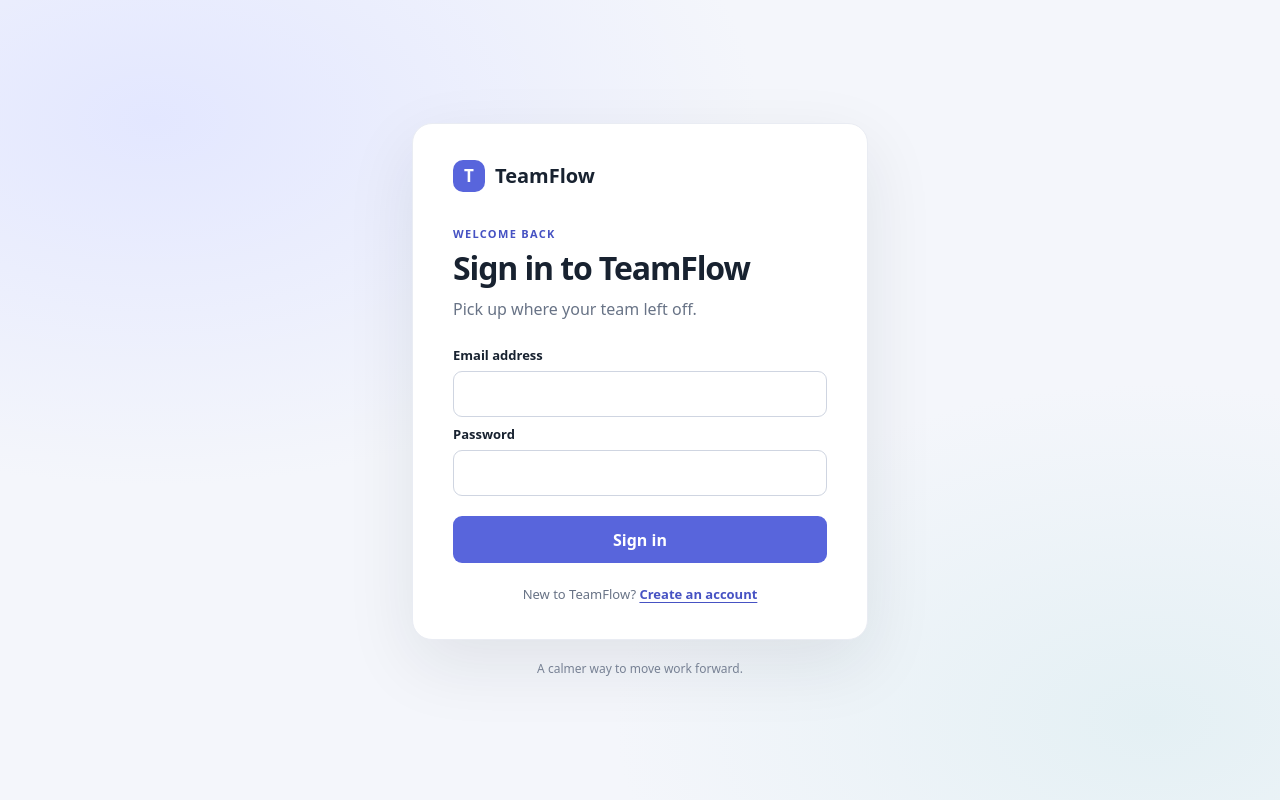
Scenario: authentication flow › shows backend validation messages on the matching field
Click the link "Create an account" at (698, 594), box [639,586,757,604]
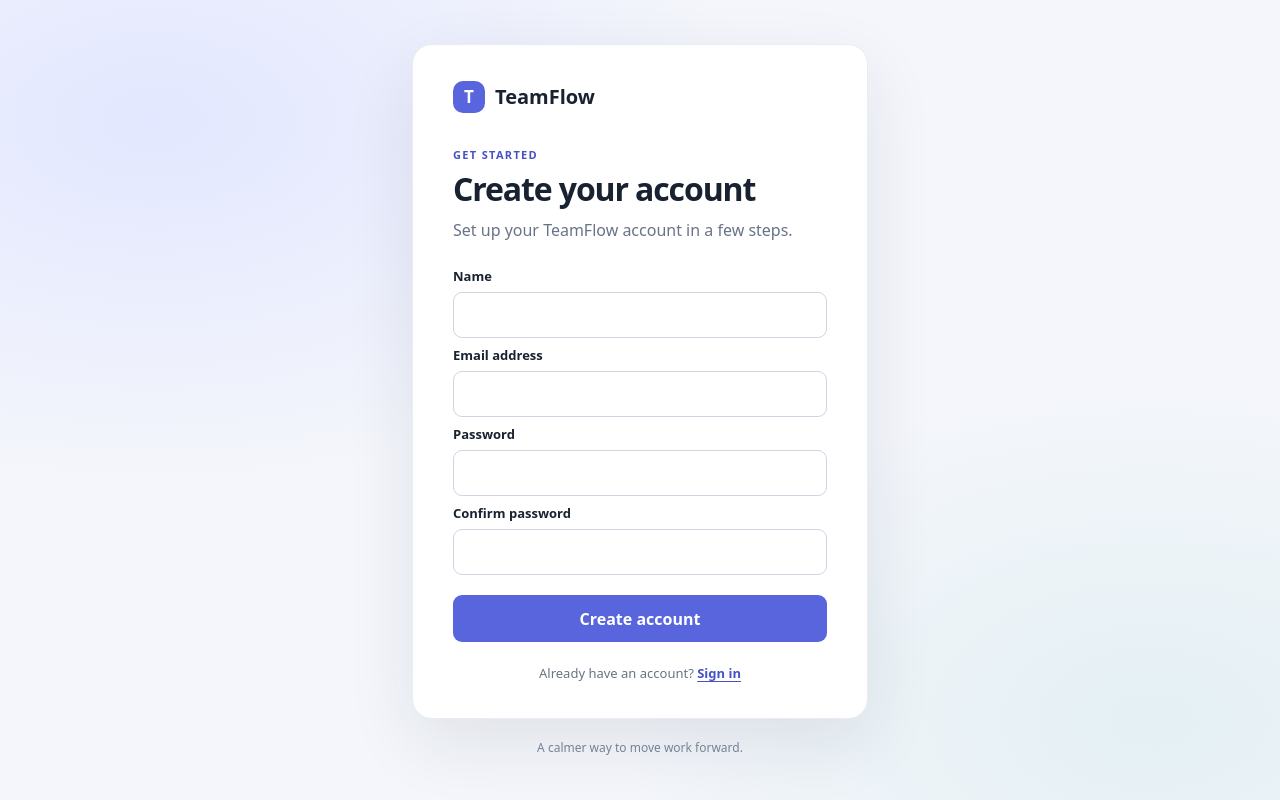
Type "Ada Lovelace" into the field labelled "Name" at (640, 316), box [453,292,827,338]
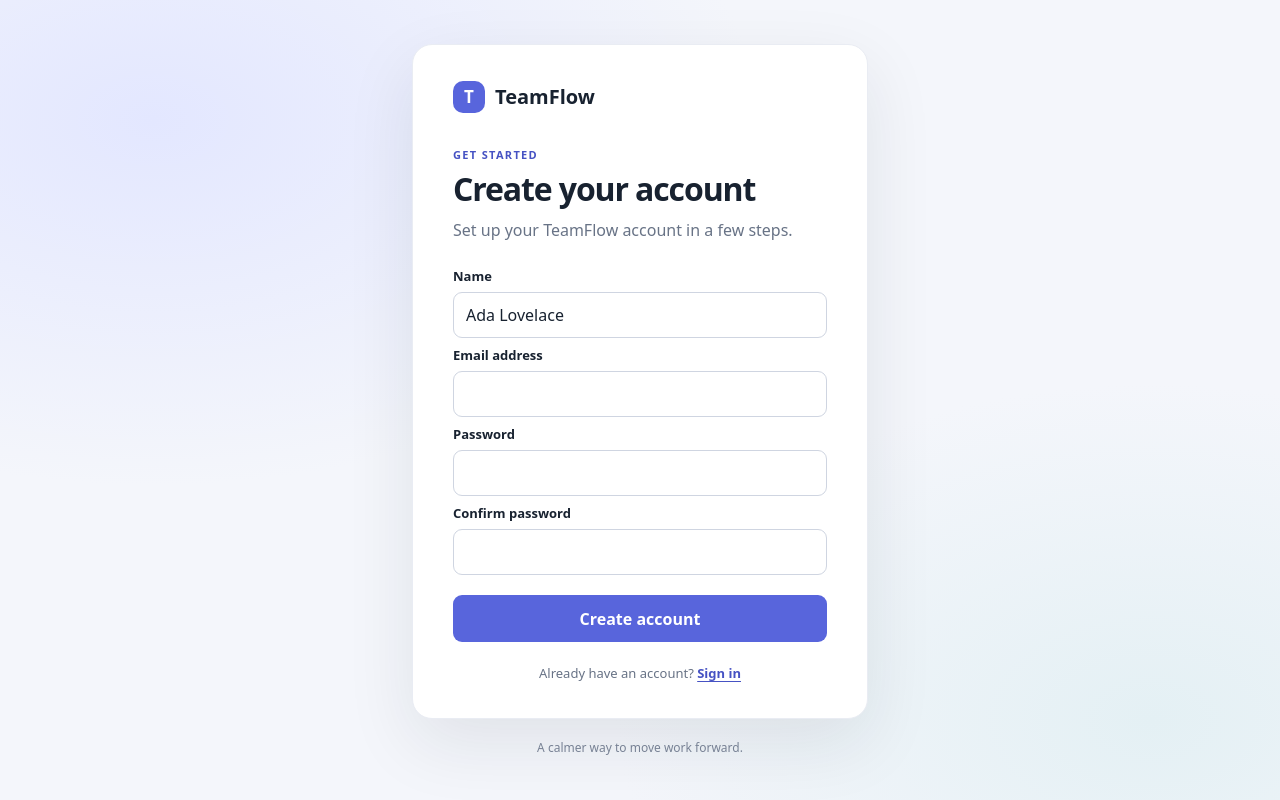
Type "ada@example.test" into the field labelled "Email address" at (640, 394), box [453,372,827,418]
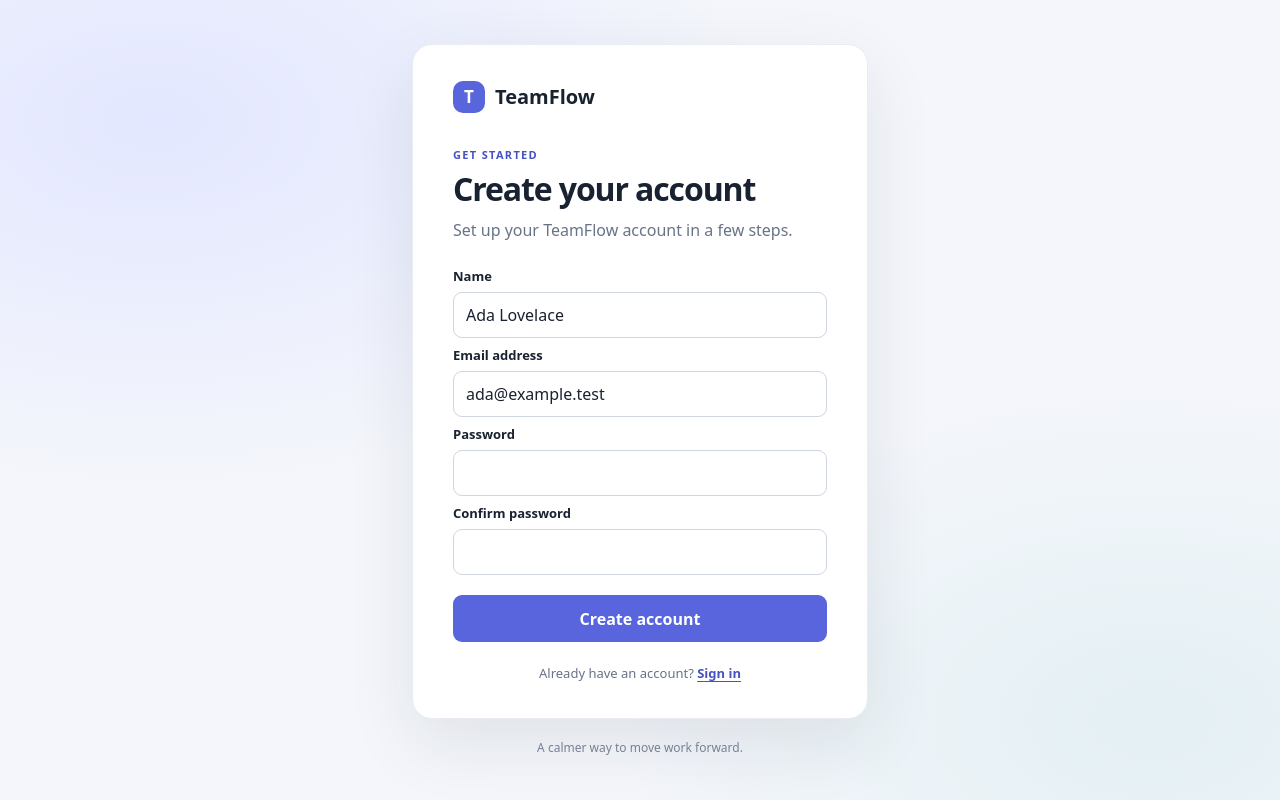
Type "a-valid-password" into the password field labelled "Password" at (640, 474), box [453,450,827,496]
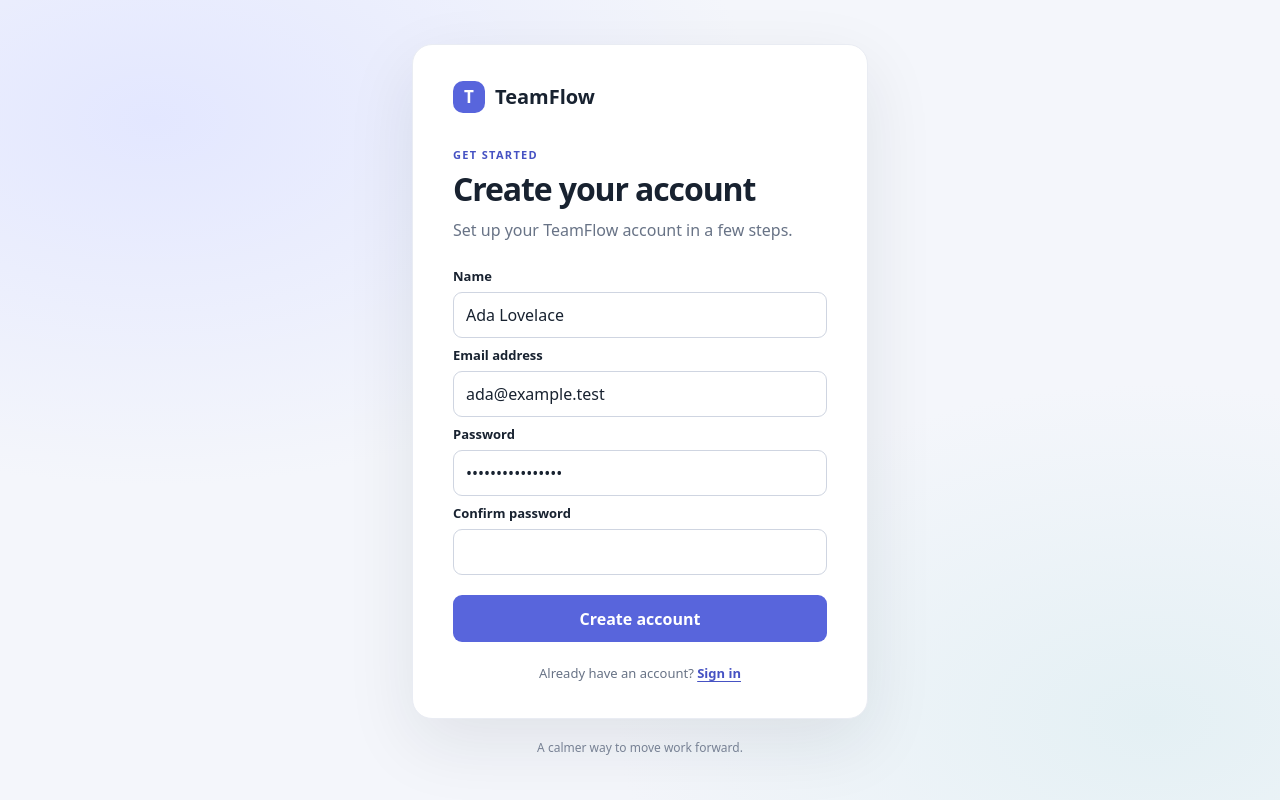
Type "a-valid-password" into the password field labelled "Confirm password" at (640, 552), box [453,530,827,576]
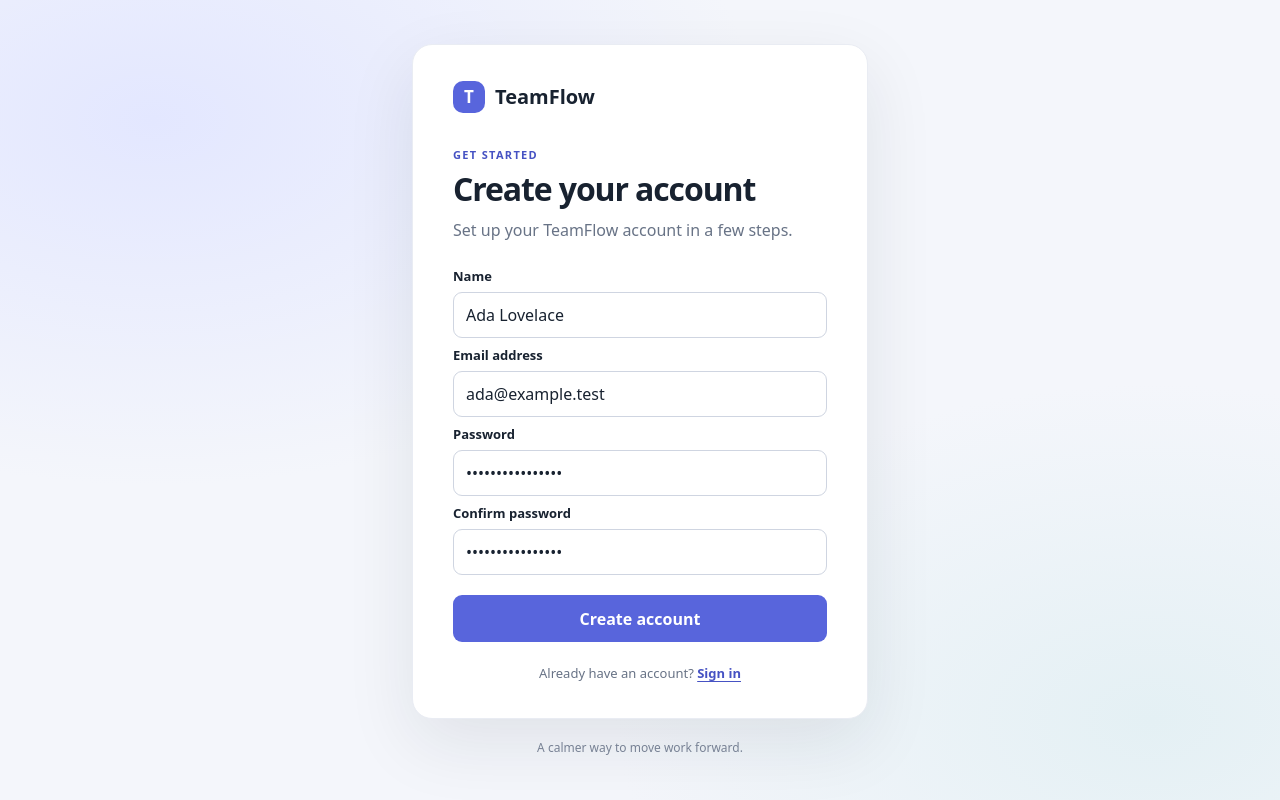
Click the button "Create account" at (640, 619), box [453,596,827,642]
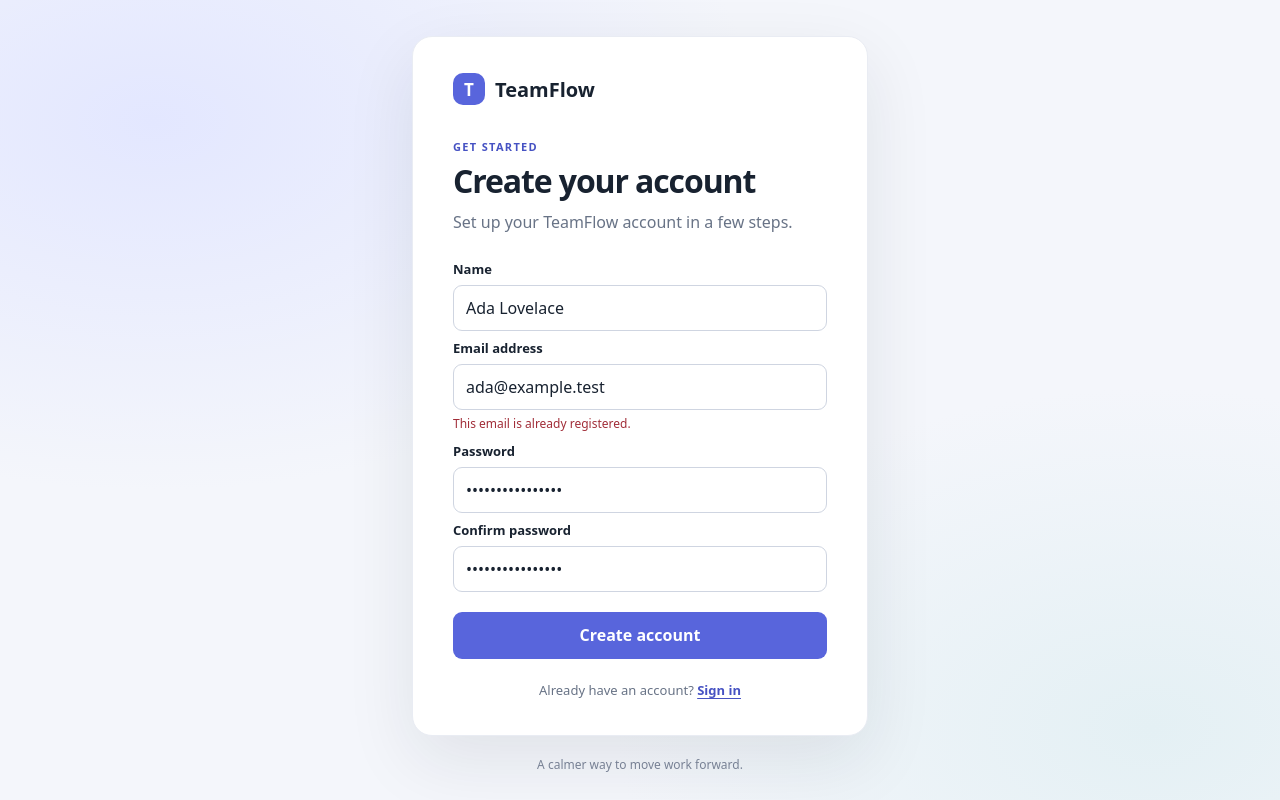
Now the text "This email is already registered." is shown, box [453,415,631,432]
